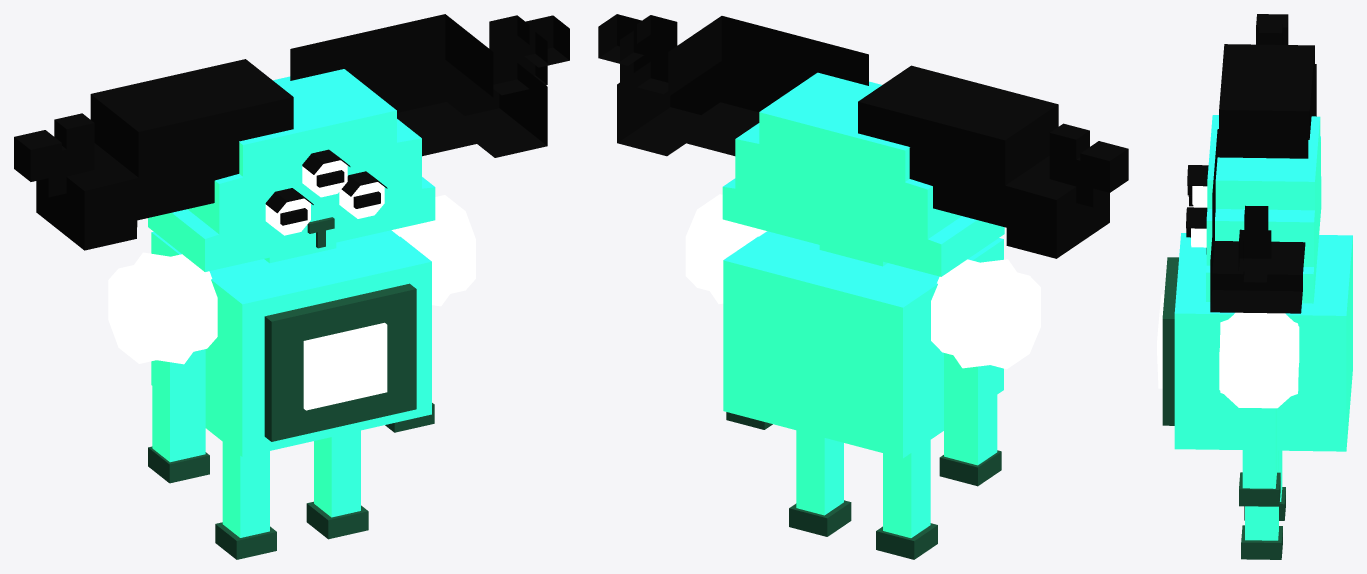
The model's file is ramFigure.gltf.
The picture shows the model from 3 angles, left to right: view 1: azimuth 30°, elevation 25°; view 2: azimuth 150°, elevation 25°; view 3: azimuth 270°, elevation 25°; orthographic projection. The views are drawn at different scales.
Parts seen in each view (by area): view 1: Cube.076; view 2: Cube.076; view 3: Cube.076.
Boxes of the visible parts, x1,y1,x2,y2 form: Cube.076: [14, 14, 569, 559]; Cube.076: [598, 14, 1128, 559]; Cube.076: [1157, 14, 1352, 559].
Bounding box in the file's own units: 154 × 129 × 55.65.
